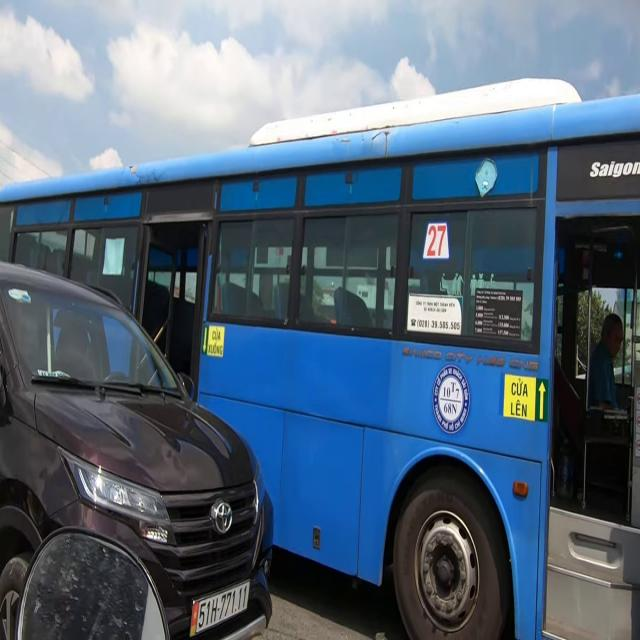bien_trang: (188, 585, 251, 633)
